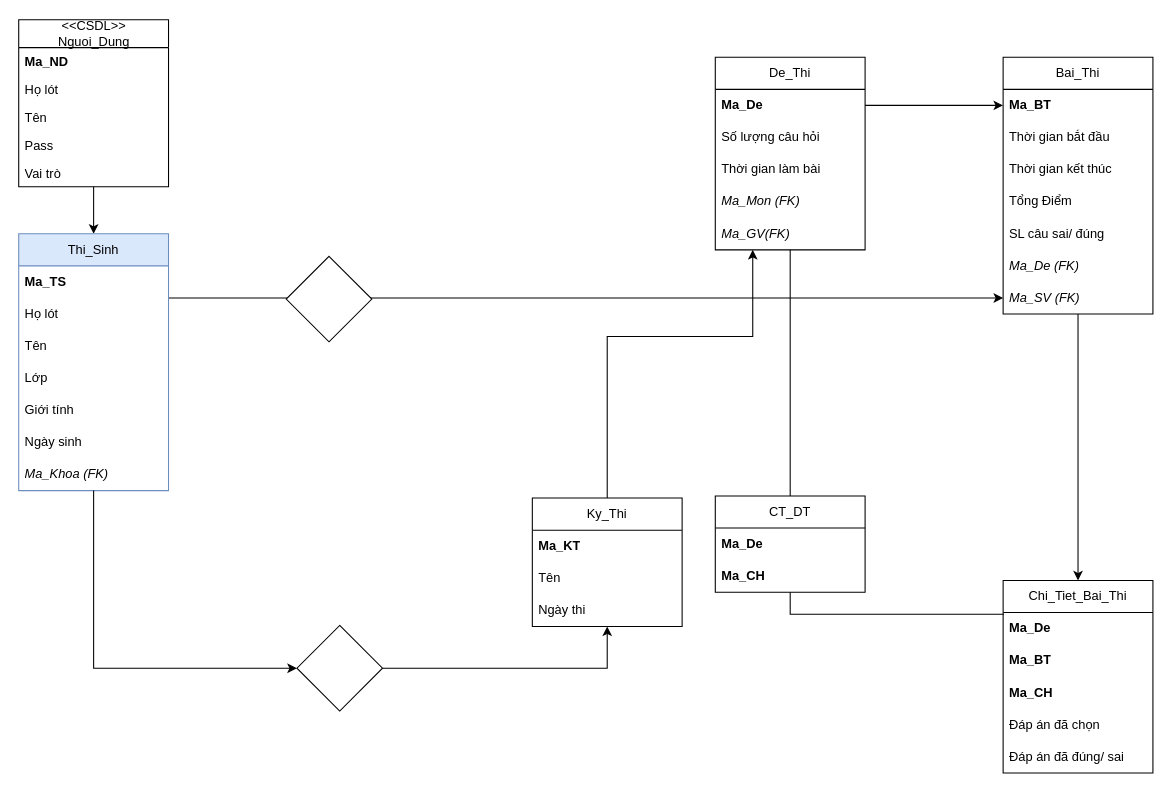
This 1172x792 diagram has some shape labels left out. Each missing label, with the centre of its shape:
"Làm Bài" belongs at (328,298).
"Tham Gia" belongs at (339,667).
